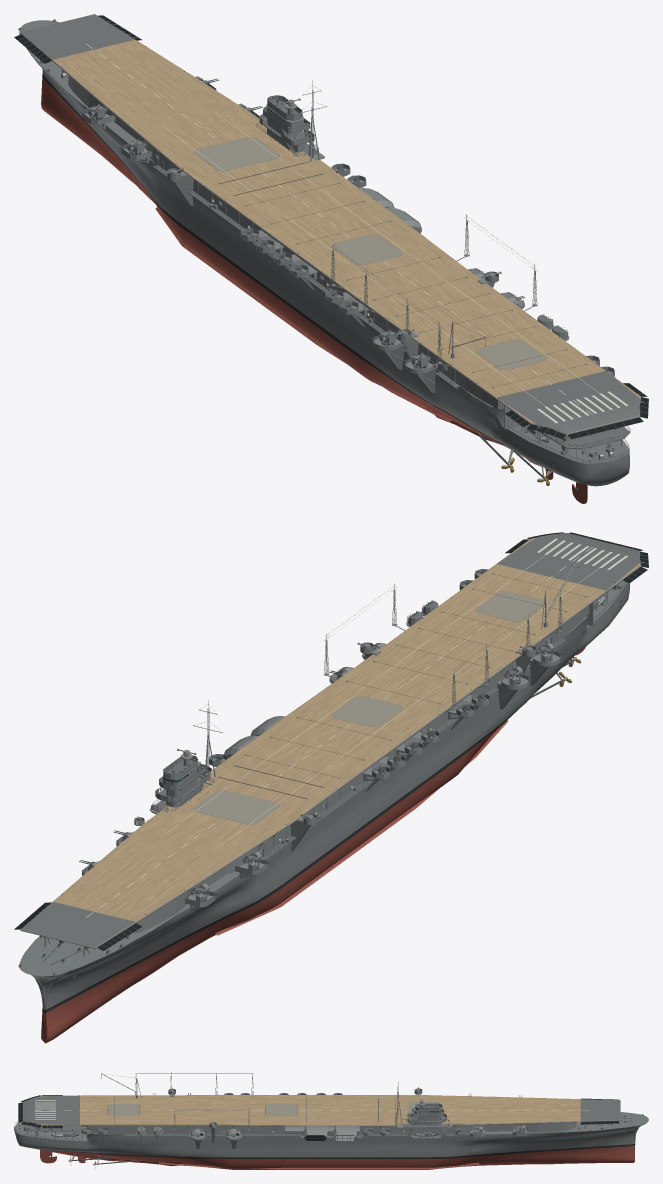
File: shokaku.glb
3 renders of one model, top to bottom at view 1: azimuth 30°, elevation 25°; view 2: azimuth 150°, elevation 25°; view 3: azimuth 270°, elevation 25°, orthographic. The views are drawn at different scales.
Visible parts, largest first — view 1: flight-deck.mesh, Blueprint lofted hull, armament.mesh, fittings.mesh, upper-hangar.mesh, hangars.mesh, island.mesh, elevator-forward.lift.mesh, underwater.mesh, elevator-aft.lift.mesh, elevator-middle.lift.mesh, stern-boat-deck.mesh; view 2: flight-deck.mesh, Blueprint lofted hull, armament.mesh, upper-hangar.mesh, island.mesh, hangars.mesh, fittings.mesh, elevator-forward.lift.mesh, elevator-middle.lift.mesh, elevator-aft.lift.mesh, underwater.mesh; view 3: Blueprint lofted hull, flight-deck.mesh, upper-hangar.mesh, island.mesh, hangars.mesh, fittings.mesh, underwater.mesh, armament.mesh, elevator-aft.lift.mesh, elevator-middle.lift.mesh, forward-funnel.mesh, stern-boat-deck.mesh (+3 smaller).
Part boxes in pixels (box(x1,y1,x2,y2)): flight-deck.mesh: box(21, 14, 640, 433); Blueprint lofted hull: box(19, 20, 629, 486); armament.mesh: box(82, 83, 614, 392); fittings.mesh: box(14, 15, 648, 466); upper-hangar.mesh: box(68, 75, 503, 409); hangars.mesh: box(20, 32, 643, 458); island.mesh: box(164, 80, 533, 366); elevator-forward.lift.mesh: box(193, 136, 279, 171); underwater.mesh: box(155, 207, 551, 478); elevator-aft.lift.mesh: box(475, 339, 546, 370); elevator-middle.lift.mesh: box(332, 234, 402, 264); stern-boat-deck.mesh: box(529, 424, 630, 449); flight-deck.mesh: box(21, 533, 640, 947); Blueprint lofted hull: box(19, 580, 629, 1043); armament.mesh: box(82, 569, 560, 910); upper-hangar.mesh: box(132, 605, 589, 933); island.mesh: box(134, 592, 558, 851); hangars.mesh: box(20, 536, 643, 956); fittings.mesh: box(14, 532, 648, 978); elevator-forward.lift.mesh: box(193, 790, 279, 824); elevator-middle.lift.mesh: box(332, 696, 402, 726); elevator-aft.lift.mesh: box(476, 591, 546, 621); underwater.mesh: box(215, 658, 573, 935); Blueprint lofted hull: box(14, 1112, 648, 1169); flight-deck.mesh: box(23, 1095, 620, 1125); upper-hangar.mesh: box(83, 1122, 576, 1134); island.mesh: box(137, 1073, 461, 1143); hangars.mesh: box(22, 1078, 620, 1141); fittings.mesh: box(14, 1073, 643, 1145); underwater.mesh: box(71, 1154, 479, 1169); armament.mesh: box(81, 1093, 527, 1148); elevator-aft.lift.mesh: box(108, 1104, 139, 1116); elevator-middle.lift.mesh: box(265, 1104, 296, 1116); forward-funnel.mesh: box(333, 1126, 357, 1140); stern-boat-deck.mesh: box(23, 1124, 82, 1132).
Bounding box in the file's own units: 41.17 × 42.77 × 258.
Materials: 21 (16 with a texture image).
